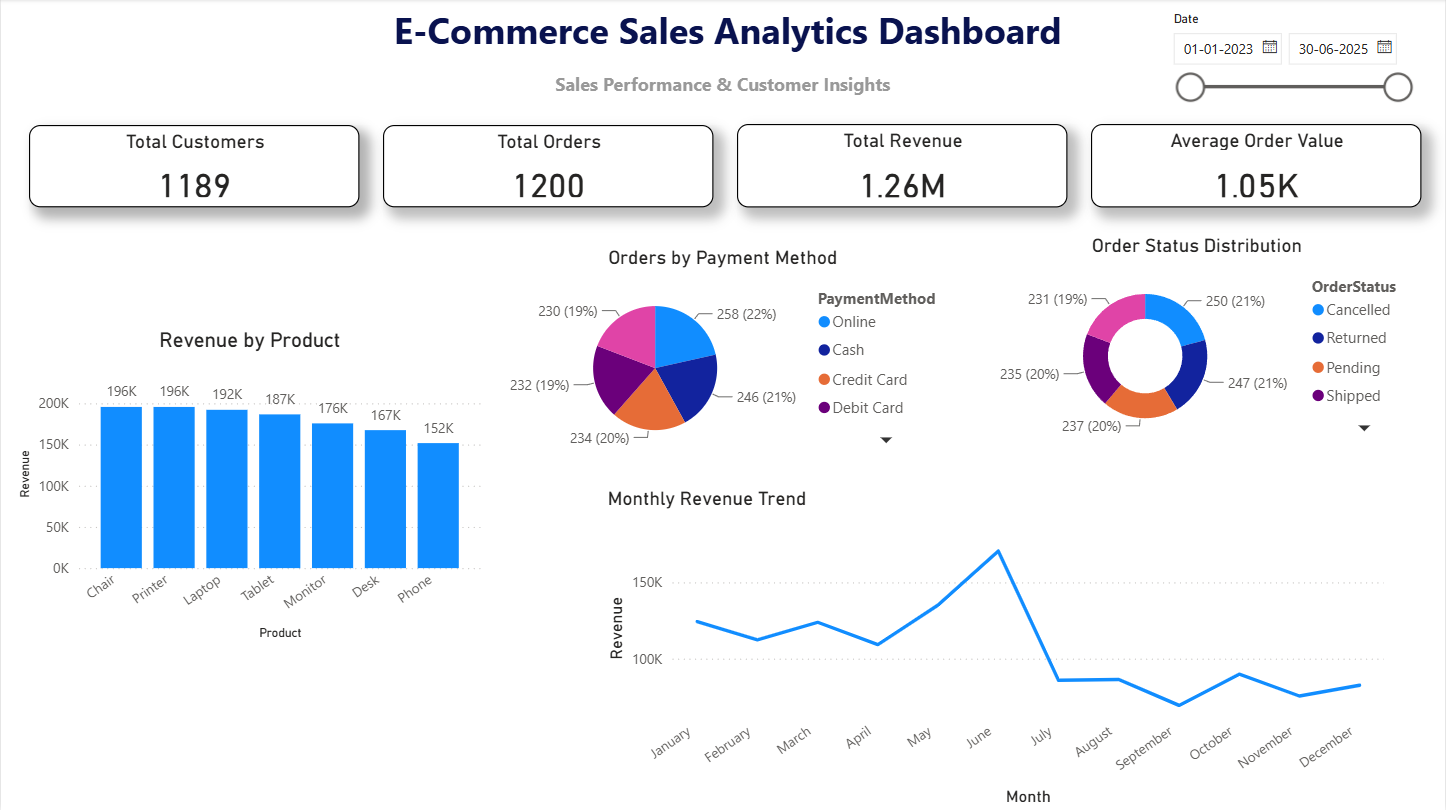

Layout of this report page (visuals, bound fields, positions):
{"tool":"powerbi","page":{"name":"Dashboard","canvas":[1280,720],"ordinal":0},"visuals":[{"type":"textbox","box":[253.6,0,772.7,98.2],"z":0},{"type":"clusteredColumnChart","title":"Revenue by Product","fields":{"Y":["Sum(Sheet1.TotalPrice)"],"Category":["Sheet1.Product"]},"box":[10.9,291.8,420,280.9],"z":1000},{"type":"card","title":"Total Revenue","fields":{"Values":["Sum(Sheet1.TotalPrice)"]},"box":[652.4,110.9,292.7,73.6],"z":2000},{"type":"card","title":"Total Orders","fields":{"Values":["CountNonNull(Sheet1.OrderID)"]},"box":[338.5,111.8,292.7,72.7],"z":3000},{"type":"card","title":"Total Customers","fields":{"Values":["Count(Sheet1.CustomerID)"]},"box":[24.5,111.8,292.7,72.7],"z":4000},{"type":"card","title":"Average Order Value","fields":{"Values":["Avg(Sheet1.TotalPrice)"]},"box":[966.4,110.9,292.7,73.6],"z":5000},{"type":"pieChart","title":"Orders by Payment Method","fields":{"Category":["Sheet1.PaymentMethod"],"Y":["CountNonNull(Sheet1.OrderID)"]},"box":[430.9,219.1,418.2,184.5],"z":6000},{"type":"donutChart","title":"Order Status Distribution","fields":{"Category":["Sheet1.OrderStatus"],"Y":["CountNonNull(Sheet1.OrderID)"]},"box":[861.8,208.2,397.3,184.5],"z":7000},{"type":"slicer","fields":{"Values":["Sheet1.Date"]},"box":[1026.4,6.4,233.6,91.8],"z":8000},{"type":"lineChart","title":"Monthly Revenue Trend","fields":{"Category":["Sheet1.Date.Variation.Date Hierarchy.Month"],"Y":["Sum(Sheet1.TotalPrice)"]},"box":[532.7,432.7,698.2,287.3],"z":9000}]}

Visuals, with their boxes in screenshot pixels (x1, y1, x2, y2), scaled from the page's 1280x720 canvas onto the 1446x810 screenshot:
textbox: 286 0 1159 110
"Revenue by Product" clusteredColumnChart: 12 328 487 644
"Total Revenue" card: 737 125 1068 208
"Total Orders" card: 382 126 713 208
"Total Customers" card: 28 126 358 208
"Average Order Value" card: 1092 125 1422 208
"Orders by Payment Method" pieChart: 487 246 959 454
"Order Status Distribution" donutChart: 974 234 1422 442
slicer - Sheet1.Date: 1160 7 1423 110
"Monthly Revenue Trend" lineChart: 602 487 1391 809
